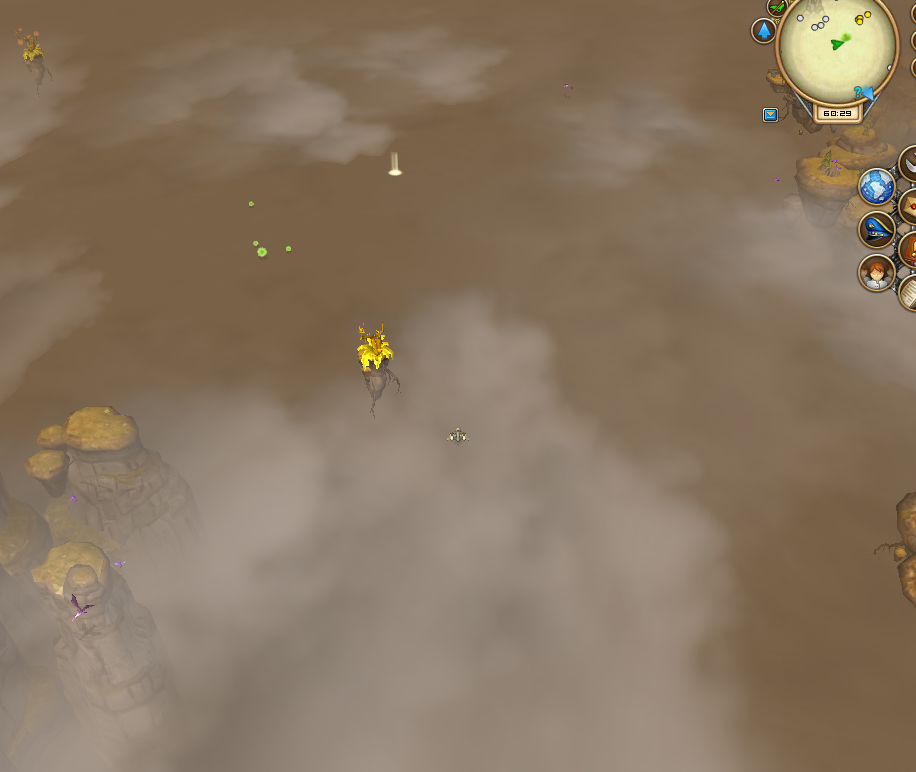dandelion-empty: (352, 319, 403, 412)
dandelion-full: (12, 19, 54, 90)
fluff: (257, 246, 268, 259), (283, 244, 293, 256), (251, 239, 261, 248), (248, 198, 255, 209)
